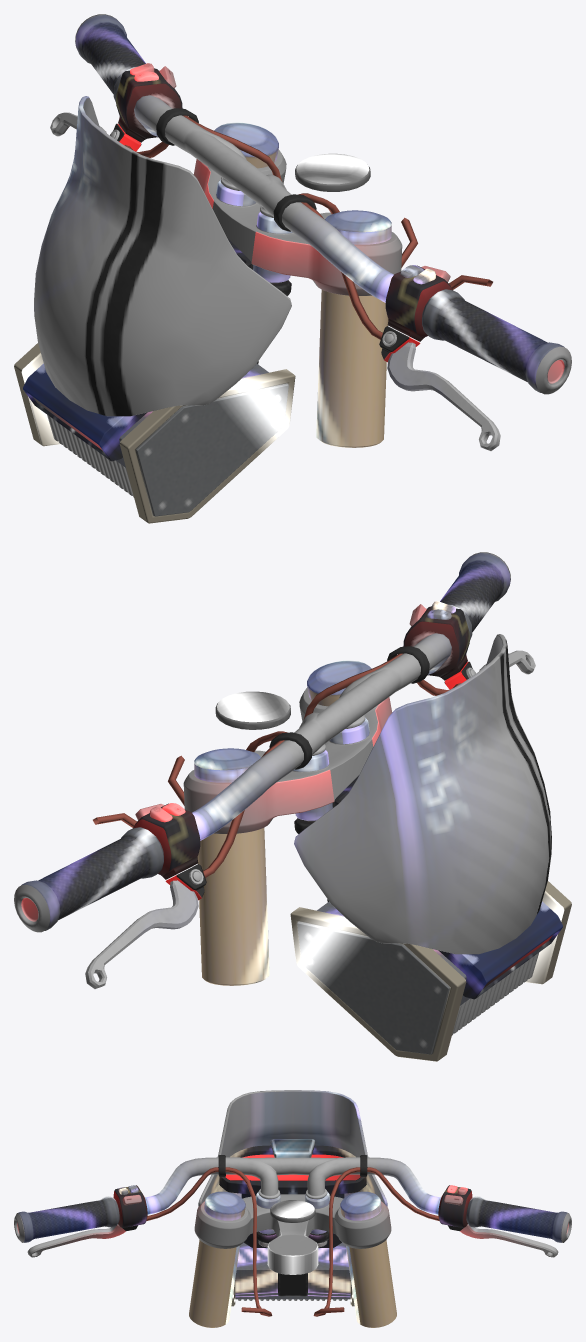
The model's file is SM_CP_Motorcycle01_HandleBars.fbx.
3 views of the same model, one above another, from view 1: azimuth 30°, elevation 25°; view 2: azimuth 150°, elevation 25°; view 3: azimuth 270°, elevation 25° (orthographic). The views are drawn at different scales.
Parts seen in each view (by area): view 1: SM_CP_Motorcycle01_HandleBars_LOD0; view 2: SM_CP_Motorcycle01_HandleBars_LOD0; view 3: SM_CP_Motorcycle01_HandleBars_LOD0.
Part boxes in pixels (x1,y1,x2,y2): SM_CP_Motorcycle01_HandleBars_LOD0: [14, 14, 571, 523]; SM_CP_Motorcycle01_HandleBars_LOD0: [14, 552, 571, 1061]; SM_CP_Motorcycle01_HandleBars_LOD0: [14, 1090, 571, 1327].
Bounding box in the file's own units: 46.65 × 94.25 × 38.92.
